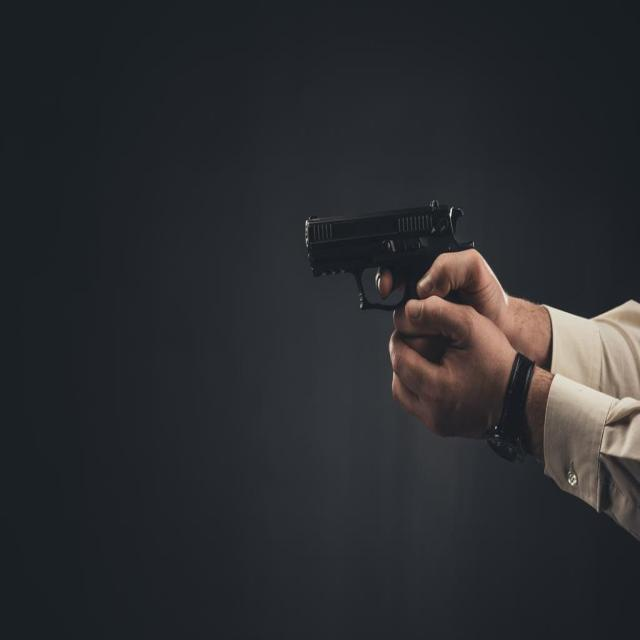HandGun: (304, 201, 474, 311)
